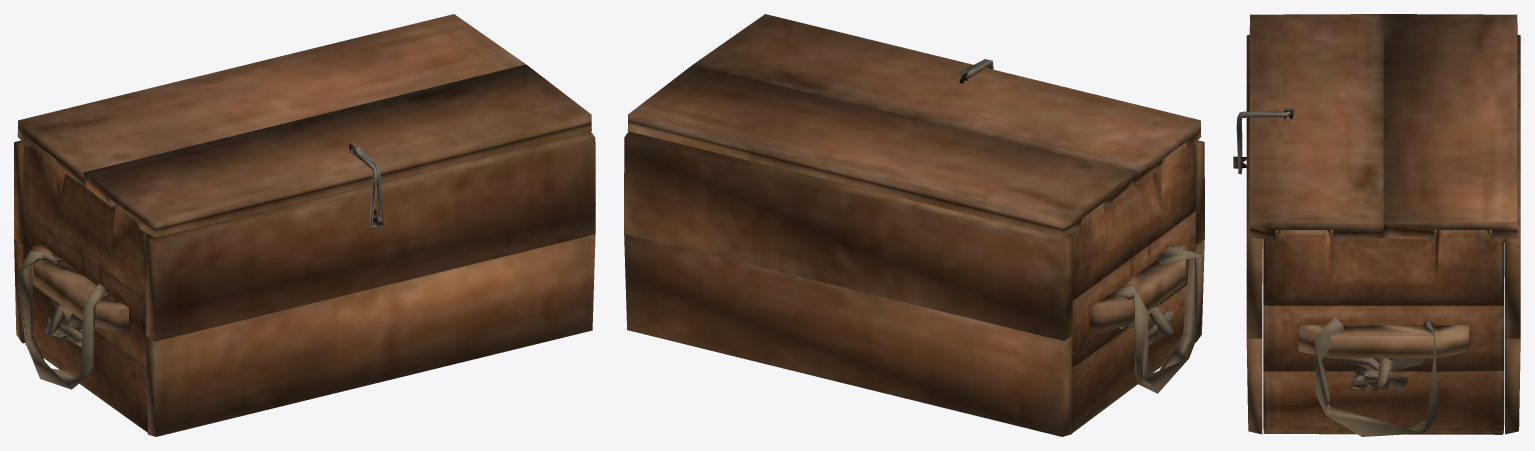
Rendered from wooden_crate_01.glb.
3 views of the same model, side by side, from view 1: azimuth 30°, elevation 25°; view 2: azimuth 150°, elevation 25°; view 3: azimuth 270°, elevation 25° (orthographic). The views are drawn at different scales.
Visible parts, largest first — view 1: wooden_crate_01, wooden_crate_01_lid, wooden_crate_01_latch; view 2: wooden_crate_01, wooden_crate_01_lid; view 3: wooden_crate_01_lid, wooden_crate_01, wooden_crate_01_latch.
Boxes of the visible parts, x1,y1,x2,y2 form: wooden_crate_01: (14, 131, 595, 436); wooden_crate_01_lid: (17, 14, 591, 237); wooden_crate_01_latch: (350, 146, 383, 228); wooden_crate_01: (624, 131, 1204, 436); wooden_crate_01_lid: (627, 14, 1201, 237); wooden_crate_01_lid: (1249, 14, 1517, 239); wooden_crate_01: (1233, 34, 1520, 436); wooden_crate_01_latch: (1236, 111, 1290, 174).
Size of the model in its own units: 0.8245 by 0.3469 by 0.4043.
1 material, 1 textured.
